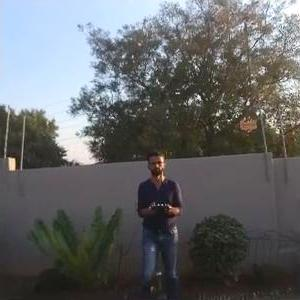follow: (122, 147, 184, 298)
